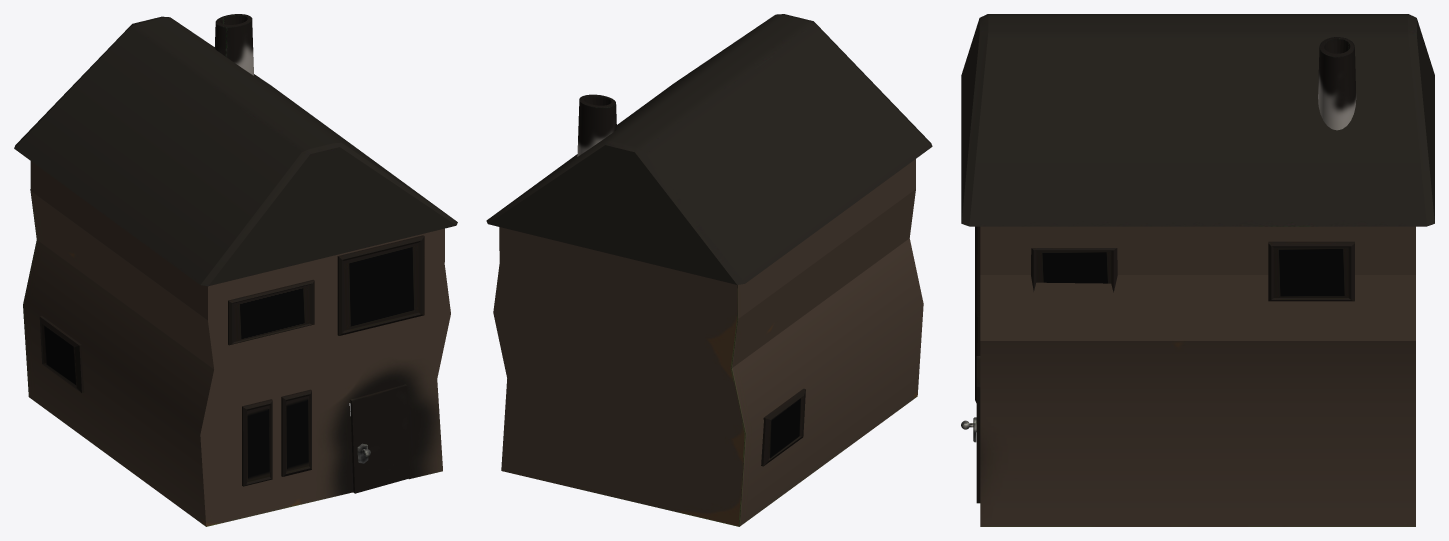
File: House4_export.FBX
3 renders of one model, left to right at view 1: azimuth 30°, elevation 25°; view 2: azimuth 150°, elevation 25°; view 3: azimuth 270°, elevation 25°, orthographic. The views are drawn at different scales.
Parts seen in each view (by area): view 1: house002; view 2: house002; view 3: house002.
Part boxes in pixels (x1,y1,x2,y2): house002: (14,14,457,526); house002: (486,14,932,526); house002: (961,14,1434,526).
Size of the model in its own units: 75.4 by 101 by 97.88.
